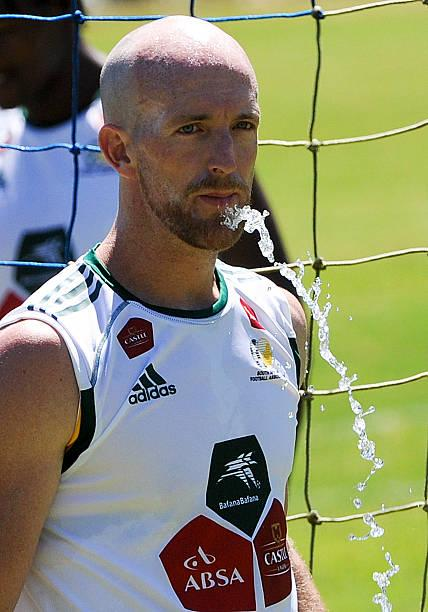Spitting: (46, 0, 334, 360)
